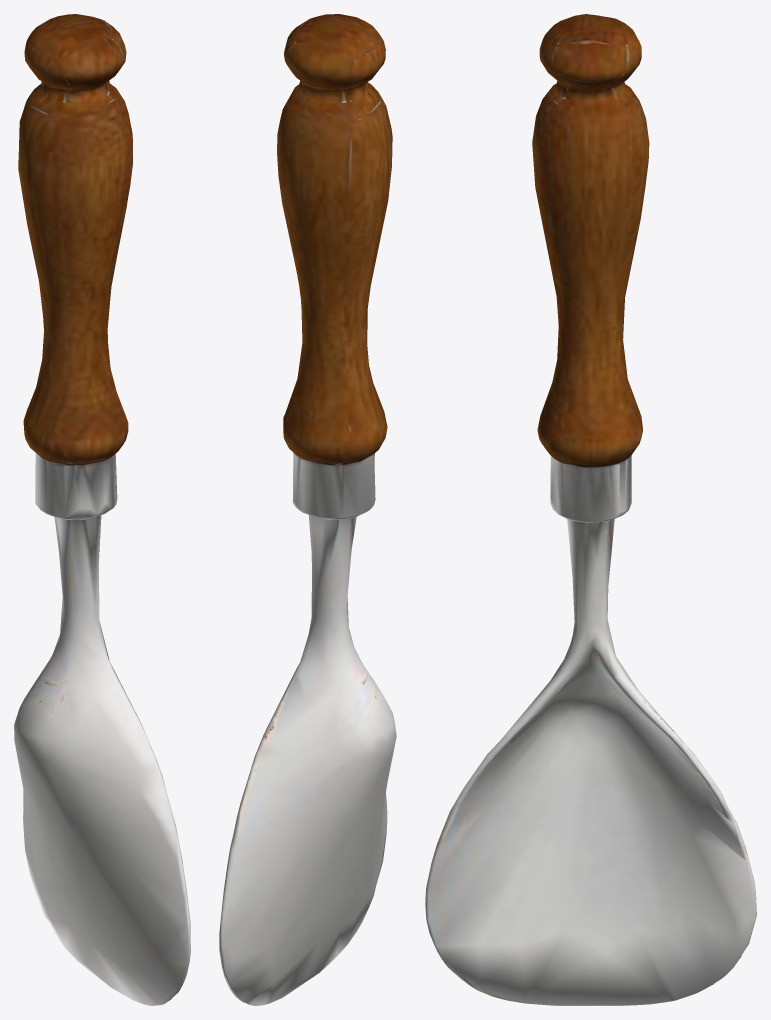
The model's file is spatula.glb.
3 views of the same model, side by side, from view 1: azimuth 30°, elevation 25°; view 2: azimuth 150°, elevation 25°; view 3: azimuth 270°, elevation 25° (orthographic).
Parts seen in each view (by area): view 1: mesh; view 2: mesh; view 3: mesh.
Part boxes in pixels (<box>): mesh: <box>14,14,190,1005</box>; mesh: <box>219,14,396,1005</box>; mesh: <box>425,14,756,1005</box>.
Bounding box in the file's own units: 0.2247 × 2 × 0.6191.
Materials: 1 (1 with a texture image).
